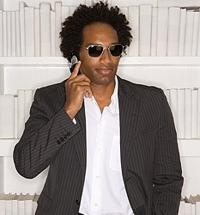person without safety: (12, 2, 184, 214)
